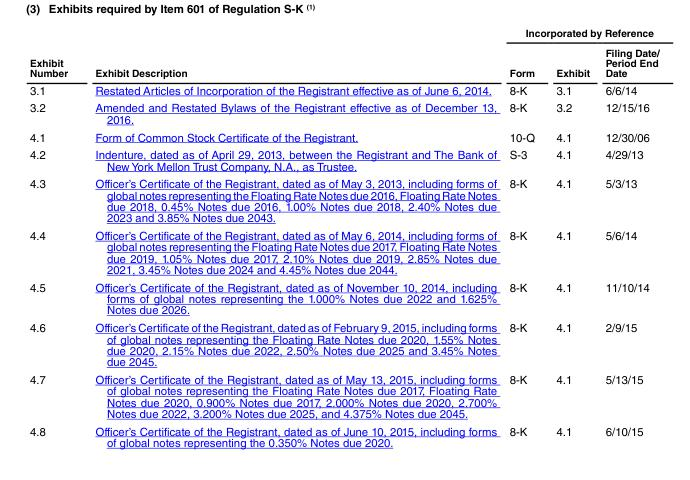table: (28, 28, 658, 449)
table column: (80, 28, 502, 449), (596, 28, 658, 449), (28, 28, 80, 449), (544, 28, 596, 449), (502, 28, 544, 449)
table column header: (28, 28, 658, 82)
table row: (28, 175, 658, 227), (28, 227, 658, 279), (28, 319, 658, 371), (28, 371, 658, 423), (28, 279, 658, 319), (28, 43, 658, 82), (28, 100, 658, 129), (28, 146, 658, 175), (28, 423, 658, 449), (28, 82, 658, 100), (28, 129, 658, 146), (28, 28, 658, 43)
table spanning cell: (80, 28, 502, 82), (28, 28, 80, 82), (502, 28, 658, 43)
